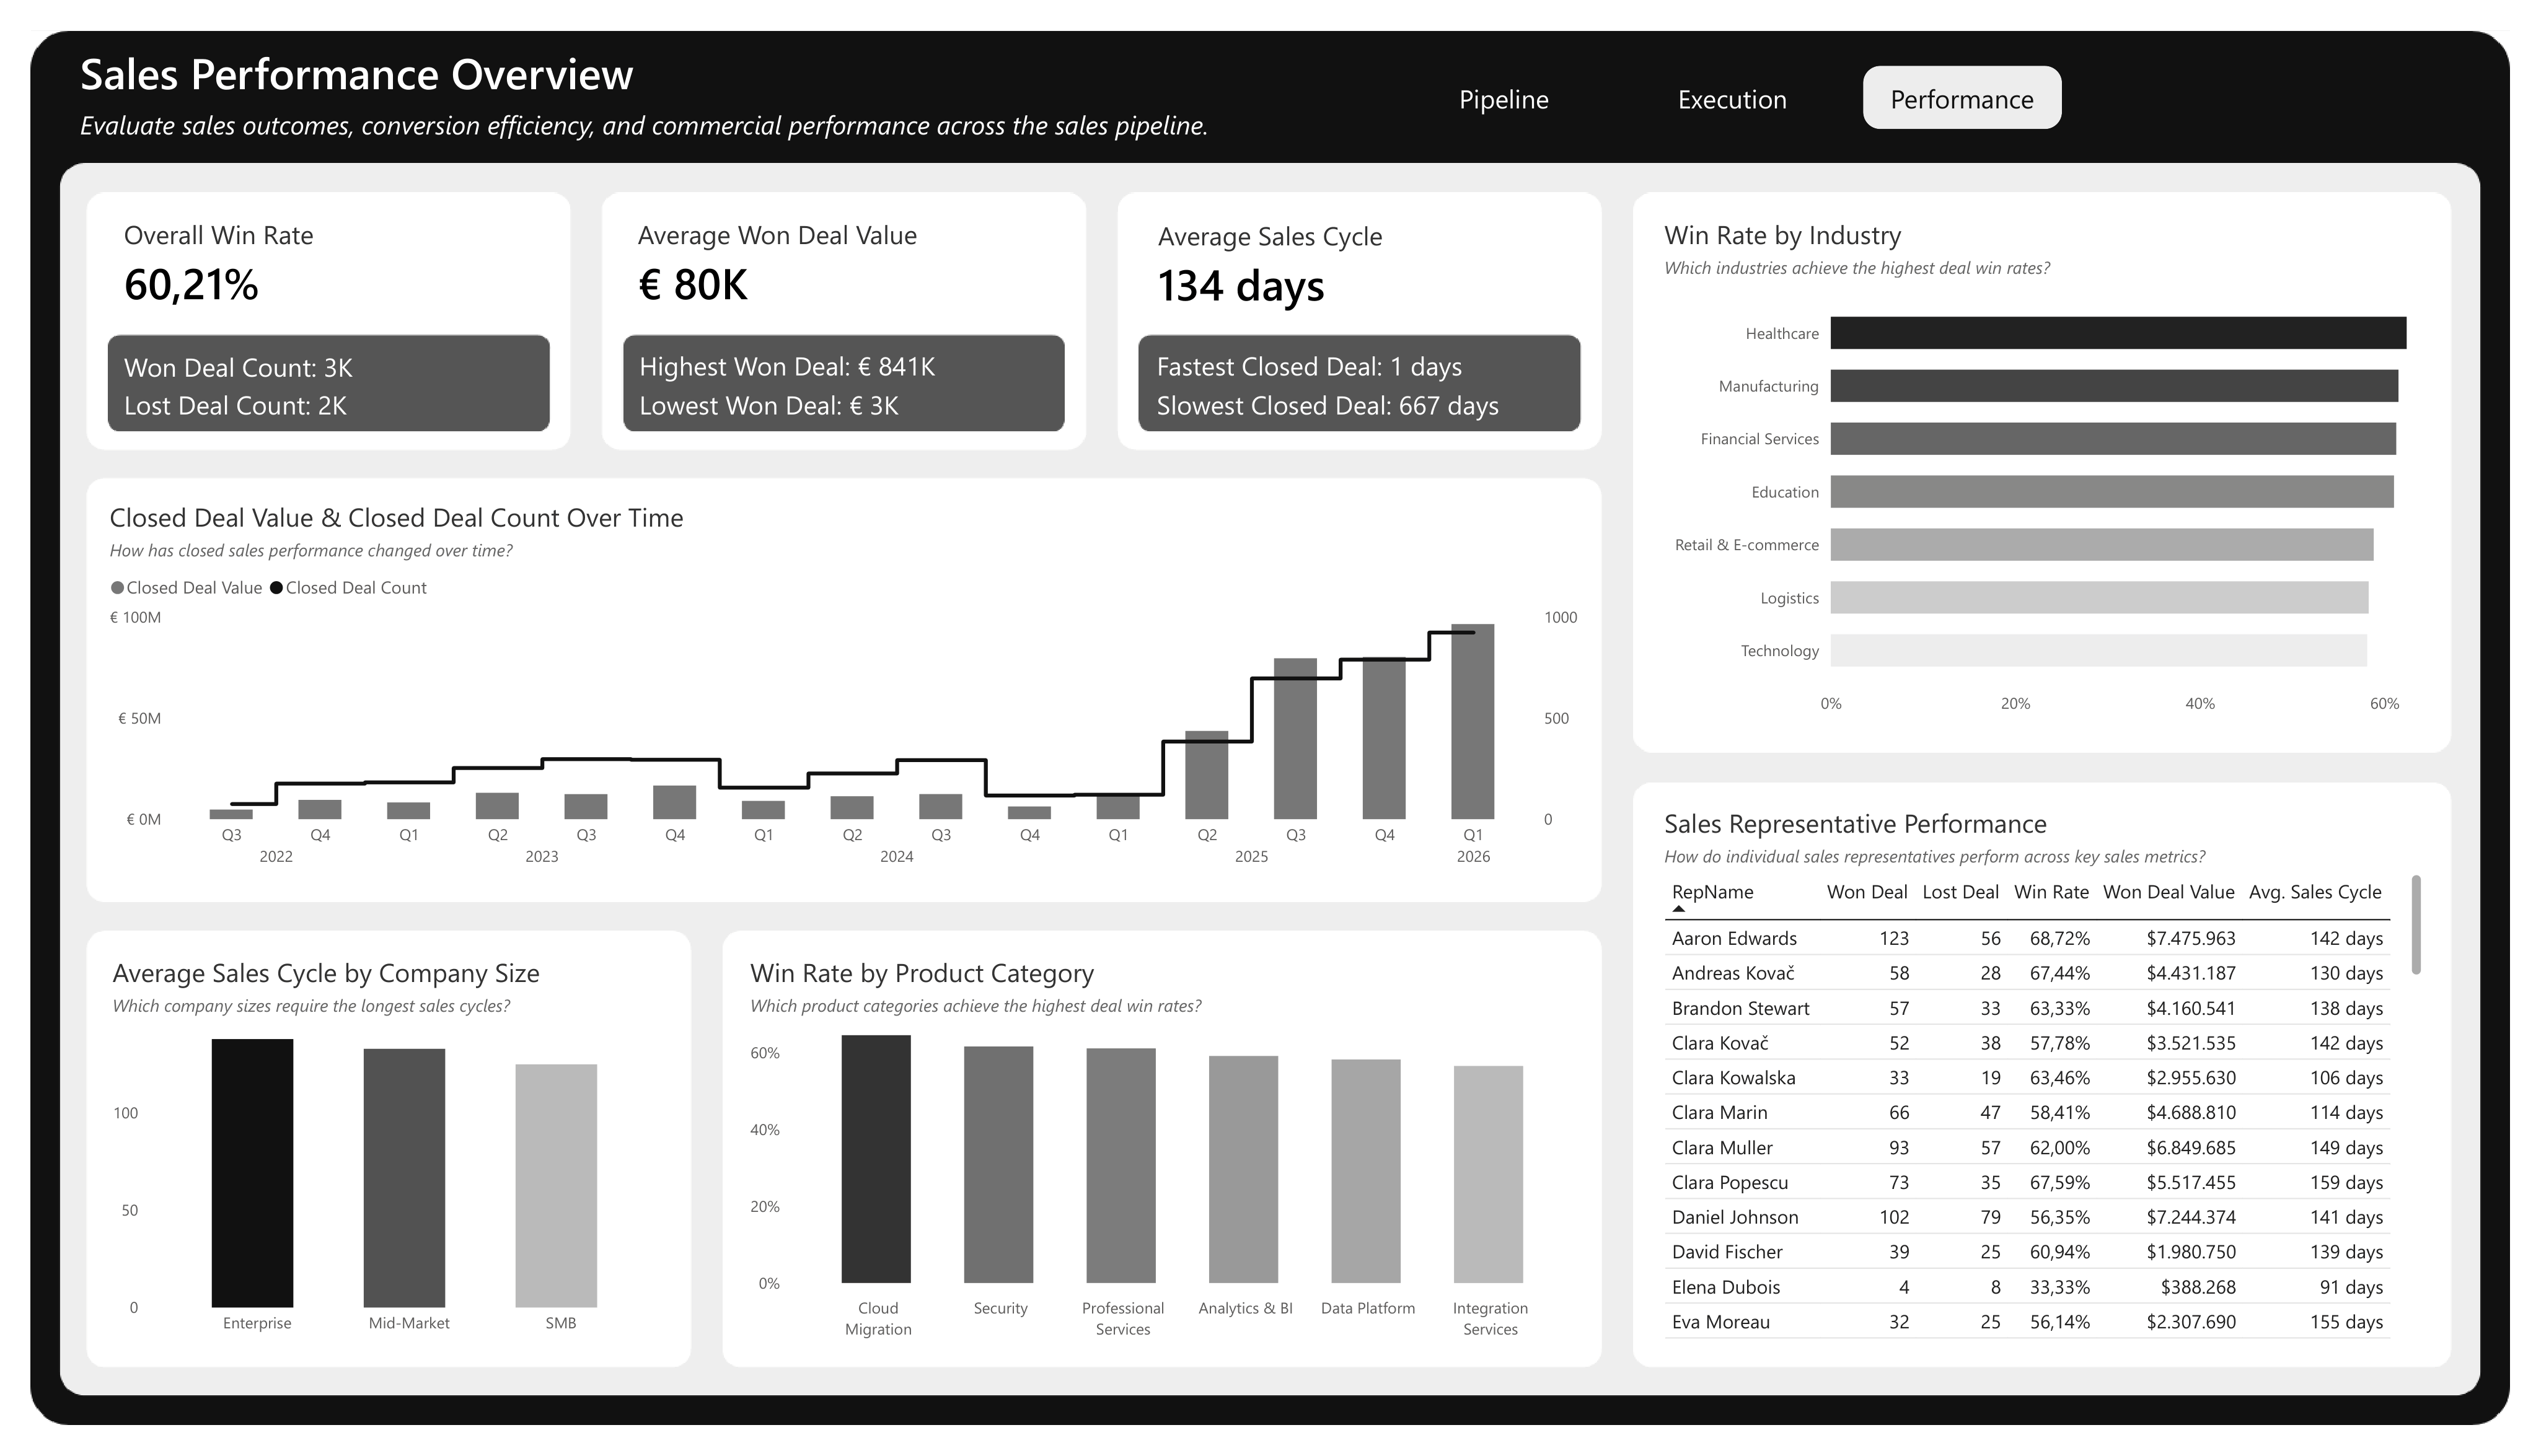

The dashboard page shown, as its layout file describes it:
{"tool":"powerbi","page":{"name":"Performance","canvas":[1920,1080],"ordinal":2},"visuals":[{"type":"cardVisual","fields":{"Data":[".Measures.Lost Deal Count Summary"]},"box":[43.4,244.3,376.4,97.7],"z":0},{"type":"cardVisual","fields":{"Data":[".Measures.Overall Win Rate"]},"box":[42.9,115.1,376.6,181.5],"z":1000},{"type":"cardVisual","fields":{"Data":[".Measures.Slowest Closed Deal Summary"]},"box":[843.3,244.3,378.2,97.7],"z":2000},{"type":"clusteredColumnChart","title":"Win Rate by Product Category","fields":{"Category":["FactDeals.ProductCategory"],"Y":[".Measures.Overall Win Rate"]},"box":[553.8,714.8,649.7,305.8],"z":3000},{"type":"clusteredColumnChart","title":"Average Sales Cycle by Company Size","fields":{"Category":["DimCompany.CompanySize"],"Y":[".Measures.Average Sales Cycle"]},"box":[56.1,714.8,439.7,304],"z":4000},{"type":"tableEx","title":"Sales Representative Performance","fields":{"Values":["DimSalesRep.RepName",".Measures.Won Deal Count",".Measures.Lost Deal Count",".Measures.Overall Win Rate",".Measures.Won Deal Value",".Measures.Average Sales Cycle Summary"]},"box":[1259.5,599,597.2,419.8],"z":5000},{"type":"lineClusteredColumnComboChart","title":"Closed Deal Value & Closed Deal Count Over Time","fields":{"Category":["DimDate.Year","DimDate.Quarter","DimDate.MonthName"],"Y2":[".Measures.Closed Deal Count"],"Y":[".Measures.Closed Deal Value"]},"box":[43.4,365.6,1147.3,293.2],"z":6000},{"type":"textbox","title":"Sales Performance Overview","box":[32.6,9,904.8,77.8],"z":7000},{"type":"cardVisual","fields":{"Data":[".Measures.Won Deal Count Summary"]},"box":[43.4,215.3,376.4,97.7],"z":8000},{"type":"cardVisual","fields":{"Data":[".Measures.Fastest Closed Deal Summary"]},"box":[843.3,213.5,376.4,97.7],"z":9000},{"type":"cardVisual","fields":{"Data":[".Measures.Average Sales Cycle Summary"]},"box":[844.1,115.9,376.7,181.6],"z":10000},{"type":"clusteredBarChart","title":"Win Rate by Industry","fields":{"Category":["DimCompany.Industry"],"Y":[".Measures.Overall Win Rate"]},"box":[1259.5,142.8,597.3,396],"z":11000},{"type":"cardVisual","fields":{"Data":[".Measures.Average Won Deal Value"]},"box":[441,115.1,376.6,181.5],"z":12000},{"type":"cardVisual","fields":{"Data":[".Measures.Lowest Won Deal Value Summary"]},"box":[441.6,244.3,376.4,97.7],"z":13000},{"type":"cardVisual","fields":{"Data":[".Measures.Highest Won Deal Value Summary"]},"box":[442.3,214.4,376.7,96.6],"z":14000}]}

Visuals, with their boxes on the page's 1920x1080 design canvas (x1, y1, x2, y2). These are canvas units, not pixel positions in the 2541x1456 screenshot, which may show the page scaled, cropped or inside an application window:
cardVisual - .Measures.Lost Deal Count Summary: {"left": 43, "top": 244, "right": 420, "bottom": 342}
cardVisual - .Measures.Overall Win Rate: {"left": 43, "top": 115, "right": 420, "bottom": 297}
cardVisual - .Measures.Slowest Closed Deal Summary: {"left": 843, "top": 244, "right": 1222, "bottom": 342}
"Win Rate by Product Category" clusteredColumnChart: {"left": 554, "top": 715, "right": 1204, "bottom": 1021}
"Average Sales Cycle by Company Size" clusteredColumnChart: {"left": 56, "top": 715, "right": 496, "bottom": 1019}
"Sales Representative Performance" tableEx: {"left": 1260, "top": 599, "right": 1857, "bottom": 1019}
"Closed Deal Value & Closed Deal Count Over Time" lineClusteredColumnComboChart: {"left": 43, "top": 366, "right": 1191, "bottom": 659}
"Sales Performance Overview" textbox: {"left": 33, "top": 9, "right": 937, "bottom": 87}
cardVisual - .Measures.Won Deal Count Summary: {"left": 43, "top": 215, "right": 420, "bottom": 313}
cardVisual - .Measures.Fastest Closed Deal Summary: {"left": 843, "top": 214, "right": 1220, "bottom": 311}
cardVisual - .Measures.Average Sales Cycle Summary: {"left": 844, "top": 116, "right": 1221, "bottom": 298}
"Win Rate by Industry" clusteredBarChart: {"left": 1260, "top": 143, "right": 1857, "bottom": 539}
cardVisual - .Measures.Average Won Deal Value: {"left": 441, "top": 115, "right": 818, "bottom": 297}
cardVisual - .Measures.Lowest Won Deal Value Summary: {"left": 442, "top": 244, "right": 818, "bottom": 342}
cardVisual - .Measures.Highest Won Deal Value Summary: {"left": 442, "top": 214, "right": 819, "bottom": 311}
